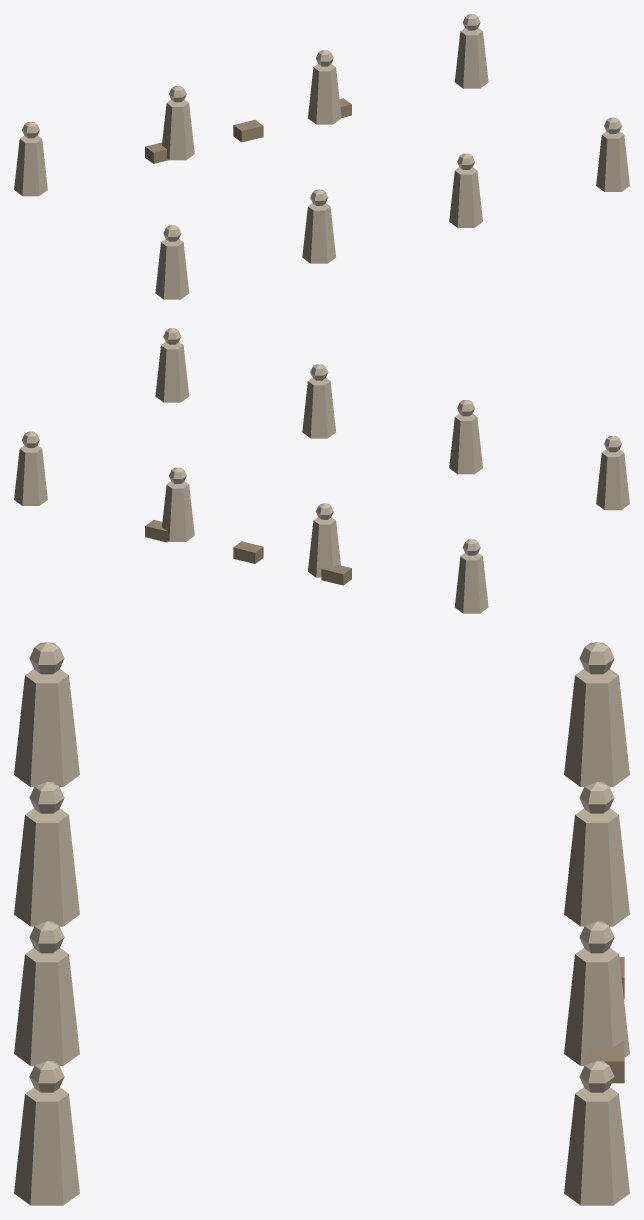
Rendered from chavin_pilgrims_lod0.glb.
3 views of the same model, one above another, from view 1: azimuth 30°, elevation 25°; view 2: azimuth 150°, elevation 25°; view 3: azimuth 270°, elevation 25° (orthographic). The views are drawn at different scales.
Parts seen in each view (by area): view 1: chavin_pilgrims; view 2: chavin_pilgrims; view 3: chavin_pilgrims.
Part boxes in pixels (<box>): chavin_pilgrims: <box>14,14,629,299</box>; chavin_pilgrims: <box>14,328,629,613</box>; chavin_pilgrims: <box>14,642,629,1205</box>.
Bounding box in the file's own units: 9.52 × 1.38 × 5.6.
